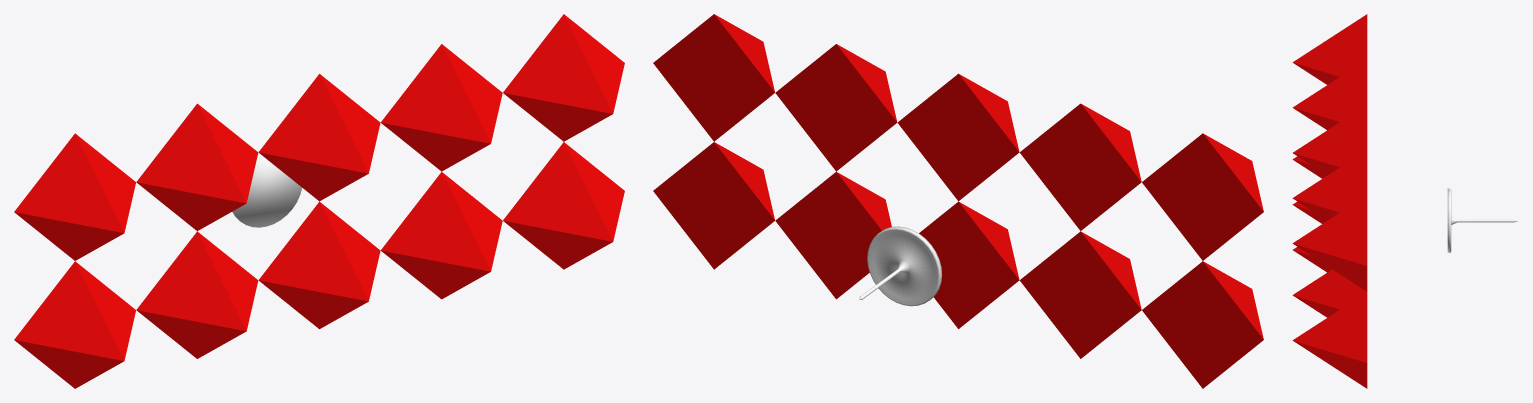
The model's file is tack.fbx.
The picture shows the model from 3 angles, left to right: view 1: azimuth 30°, elevation 25°; view 2: azimuth 150°, elevation 25°; view 3: azimuth 270°, elevation 25°; orthographic projection. The views are drawn at different scales.
Parts seen in each view (by area): view 1: Cube.007, tack.005; view 2: Cube.007, tack.005; view 3: Cube.007, tack.005.
Part boxes in pixels (bbox=[...]): Cube.007: bbox=[14, 14, 624, 388]; tack.005: bbox=[232, 150, 301, 227]; Cube.007: bbox=[653, 14, 1263, 388]; tack.005: bbox=[859, 226, 942, 306]; Cube.007: bbox=[1292, 14, 1367, 388]; tack.005: bbox=[1447, 188, 1517, 252].
Size of the model in its own units: 1000 by 400 by 423.
